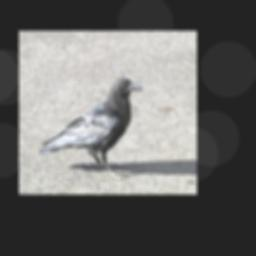Crow: (38, 76, 144, 179)
